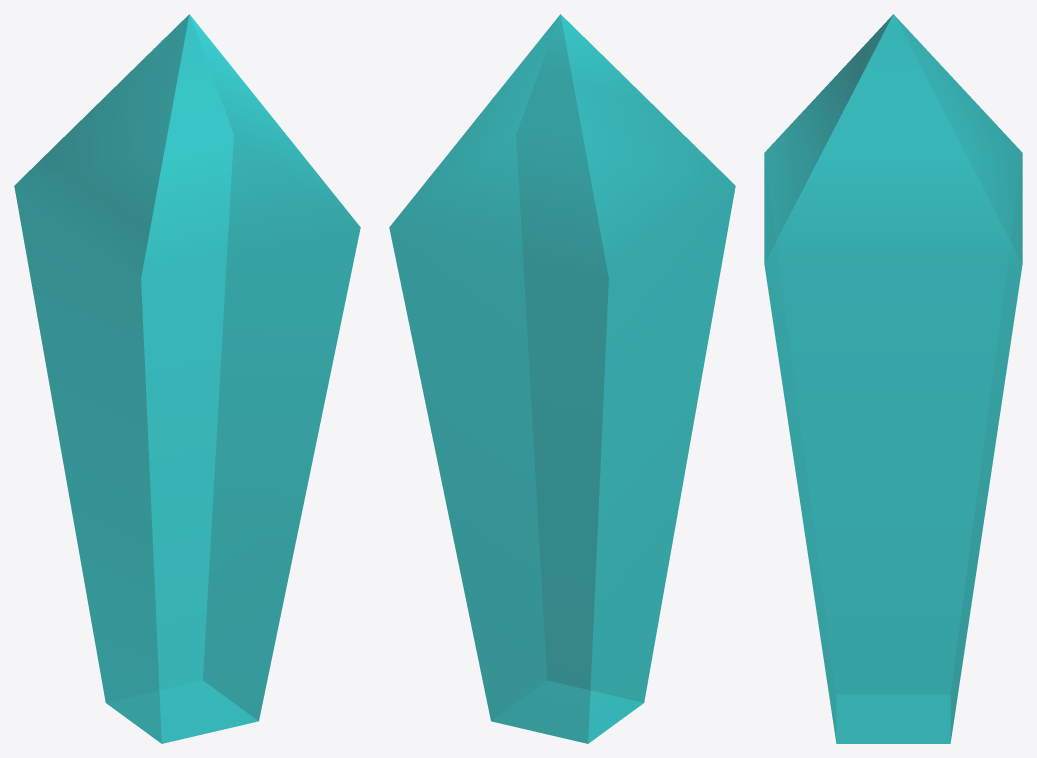
Rendered from Crystal.fbx.
3 renders of one model, left to right at view 1: azimuth 30°, elevation 25°; view 2: azimuth 150°, elevation 25°; view 3: azimuth 270°, elevation 25°, orthographic.
Parts seen in each view (by area): view 1: polySurface1; view 2: polySurface1; view 3: polySurface1.
Boxes of the visible parts, x1,y1,x2,y2 form: polySurface1: [14, 14, 360, 743]; polySurface1: [389, 14, 735, 743]; polySurface1: [764, 14, 1022, 743].
Size of the model in its own units: 0.88 by 2.67 by 0.88.
